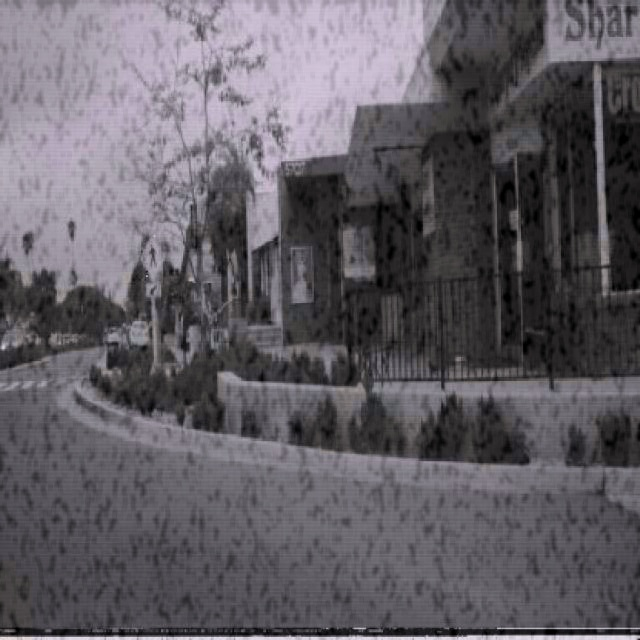pedestrianCrossing: (140, 232, 165, 282)
